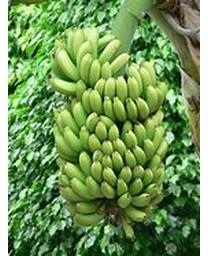banana: (48, 23, 175, 228)
